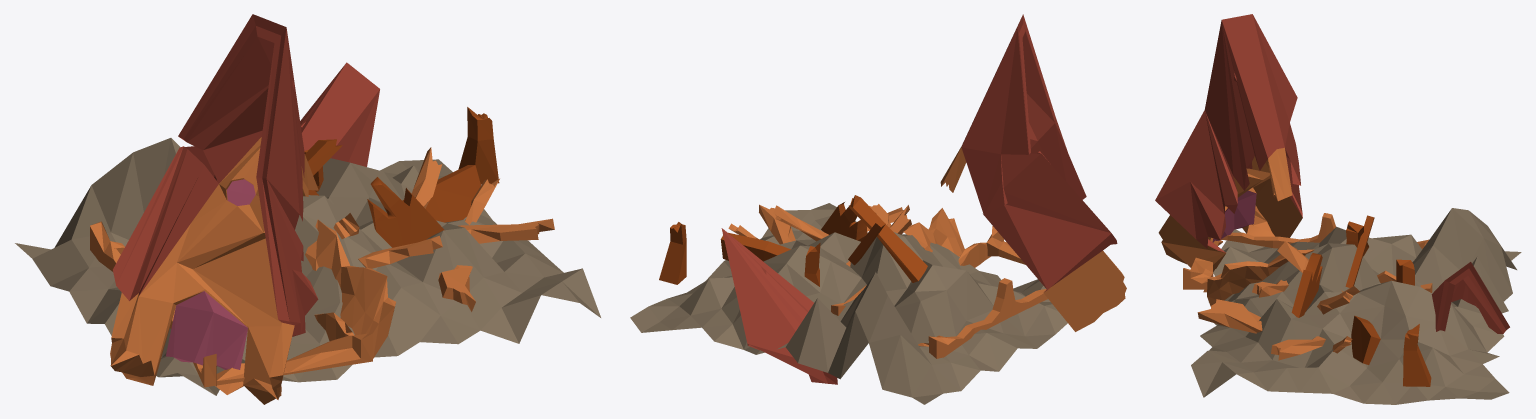
The model's file is ruin.FBX.
3 views of the same model, side by side, from view 1: azimuth 30°, elevation 25°; view 2: azimuth 150°, elevation 25°; view 3: azimuth 270°, elevation 25° (orthographic). The views are drawn at different scales.
Visible parts, largest first — view 1: ruin; view 2: ruin; view 3: ruin.
Boxes of the visible parts, x1,y1,x2,y2 form: ruin: (15,14,600,404); ruin: (630,14,1126,404); ruin: (1155,14,1521,404).
Bounding box in the file's own units: 22.57 × 18.16 × 19.49.
